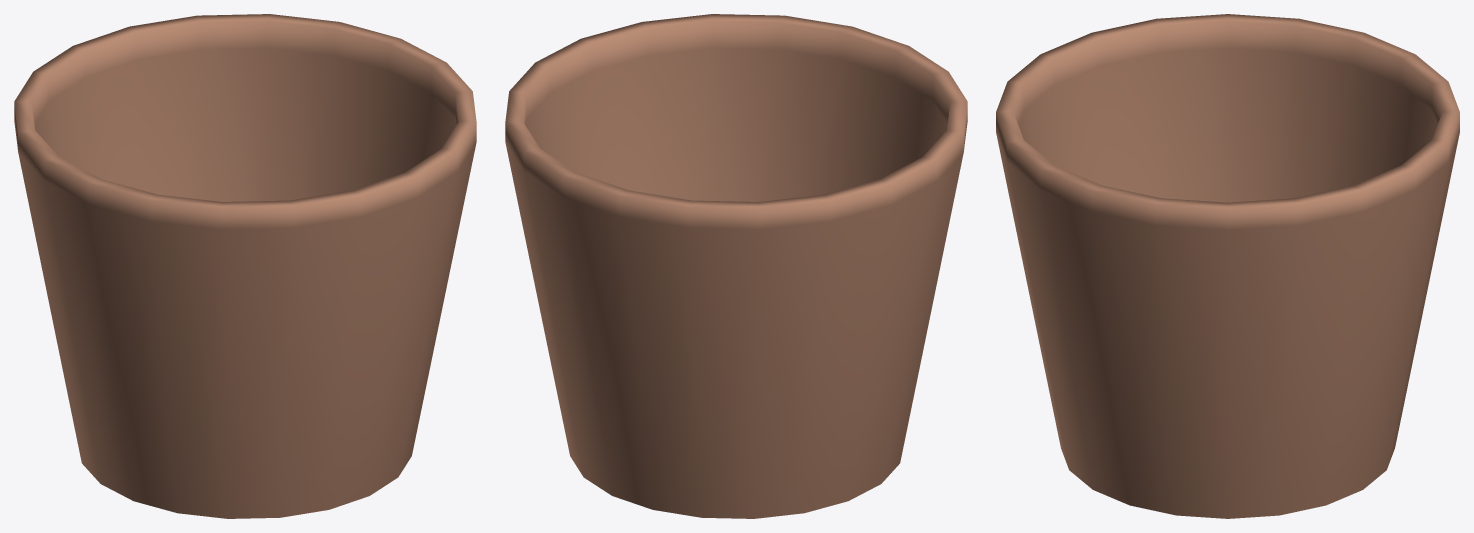
Rendered from pot_empty.glb.
3 views of the same model, side by side, from view 1: azimuth 30°, elevation 25°; view 2: azimuth 150°, elevation 25°; view 3: azimuth 270°, elevation 25° (orthographic).
Visible parts, largest first — view 1: pot_empty; view 2: pot_empty; view 3: pot_empty.
Boxes of the visible parts, left/top/right/bottom form: pot_empty: left=14, top=14, right=476, bottom=518; pot_empty: left=505, top=14, right=967, bottom=518; pot_empty: left=996, top=14, right=1459, bottom=518.
Bounding box in the file's own units: 0.3 × 0.24 × 0.3.
